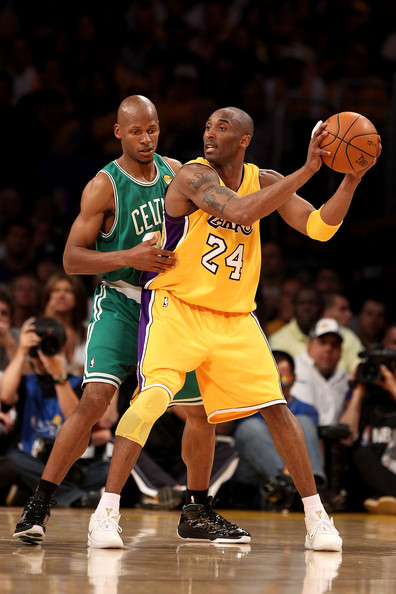Basketball: (316, 110, 381, 174)
